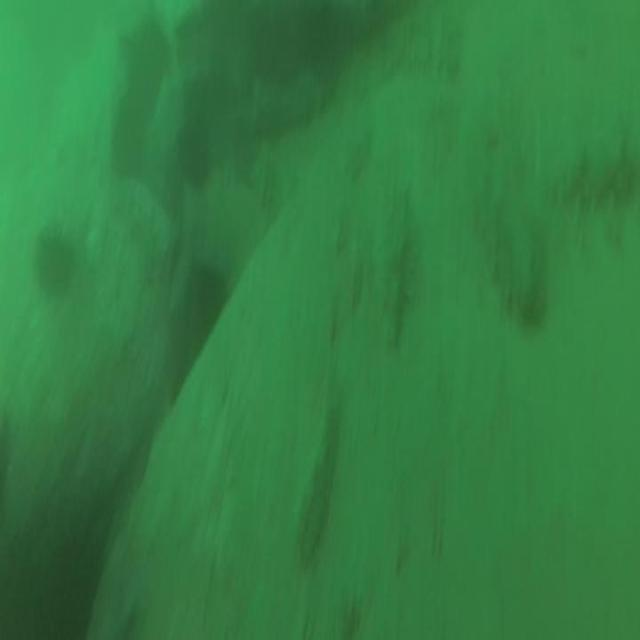echinus: (185, 265, 224, 332), (34, 232, 73, 296), (178, 120, 212, 187)
holothurian: (290, 403, 343, 567), (543, 142, 640, 209)
